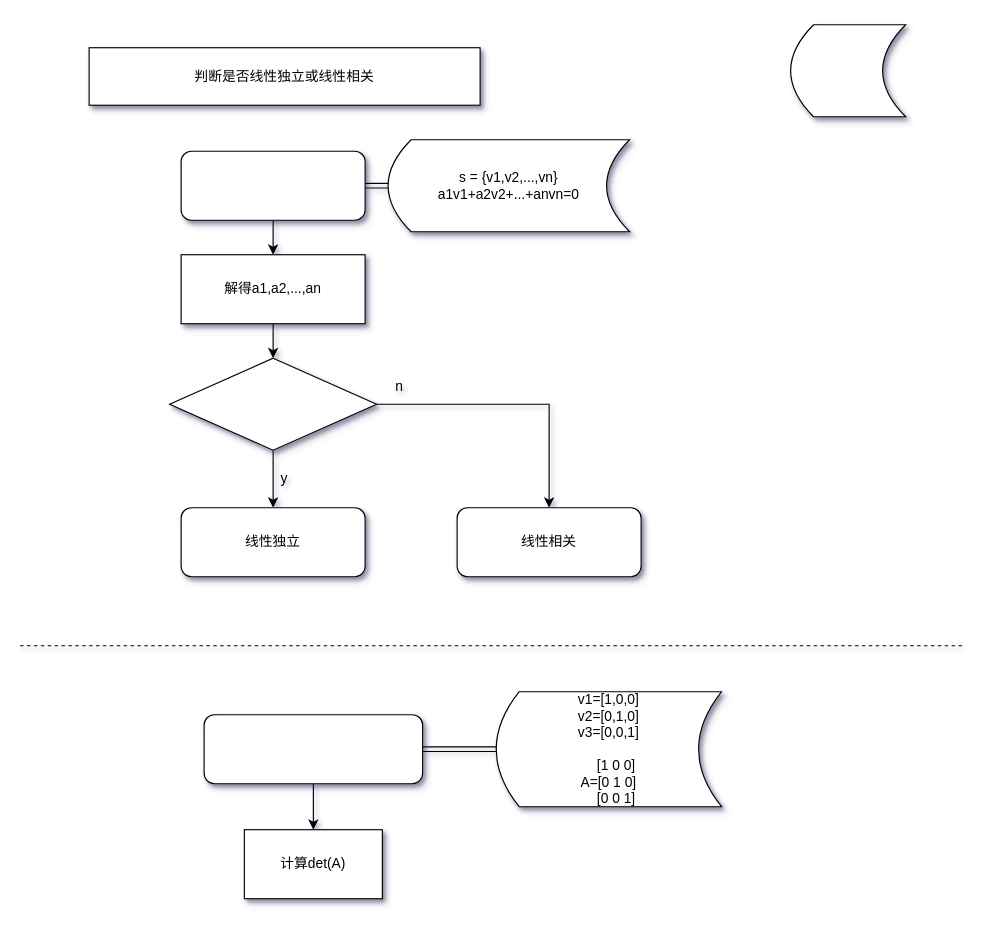
The diagram is 991 pixels wide and 934 high, and some of its shapes have lost their labels. The shapes that lost their labels are listed below. From the top down, each one's centre as x and y in pixels, then its label:
At [849,72]: "例子".
At [273,186]: "构造span s=0的方程".
At [274,405]: "a1=a2=...=an=0".
At [314,750]: "构造一个由v1,v2,vn组成的矩阵A".
